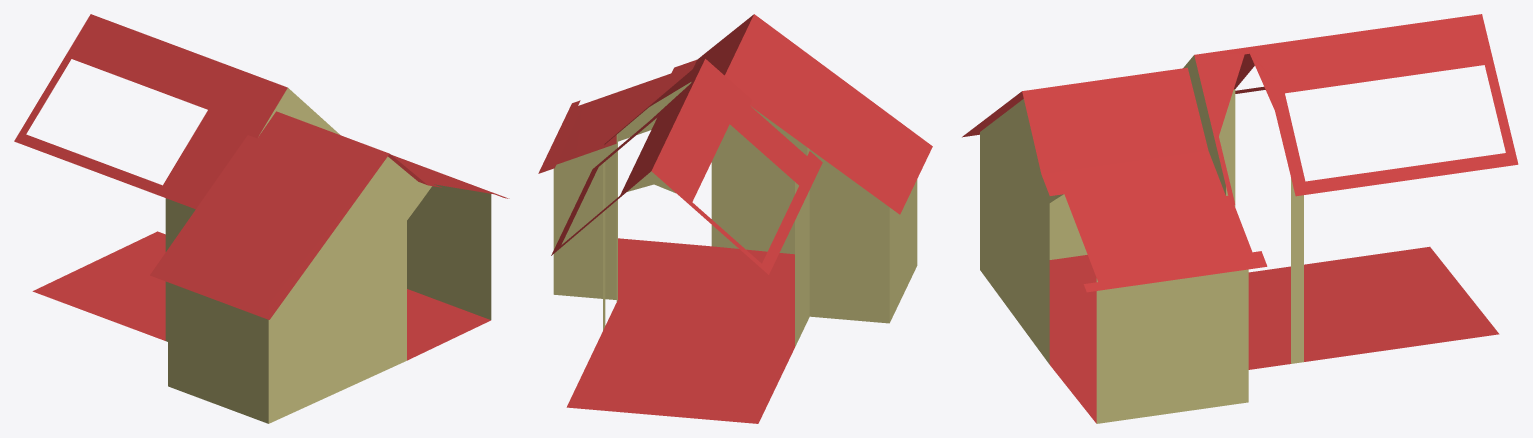
The picture shows the model from 3 angles, left to right: view 1: azimuth 30°, elevation 25°; view 2: azimuth 150°, elevation 25°; view 3: azimuth 270°, elevation 25°; orthographic projection. The views are drawn at different scales.
Bounding box in the file's own units: 22.97 × 27.98 × 15.43.
